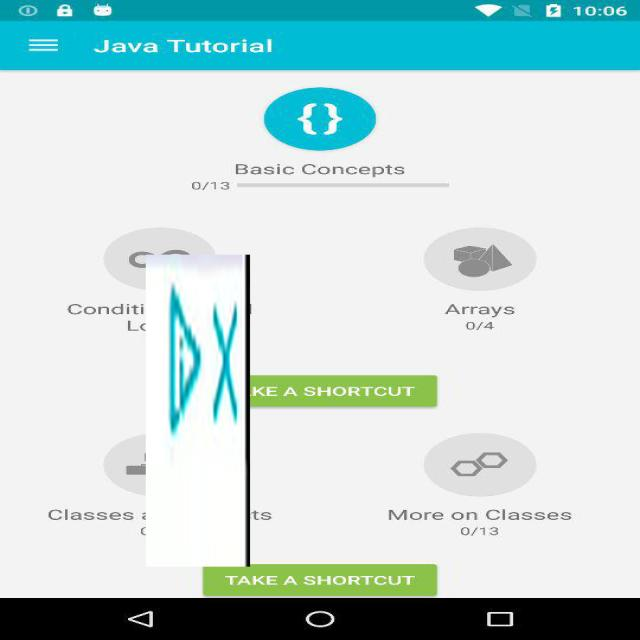sneaking: (146, 254, 250, 566)
